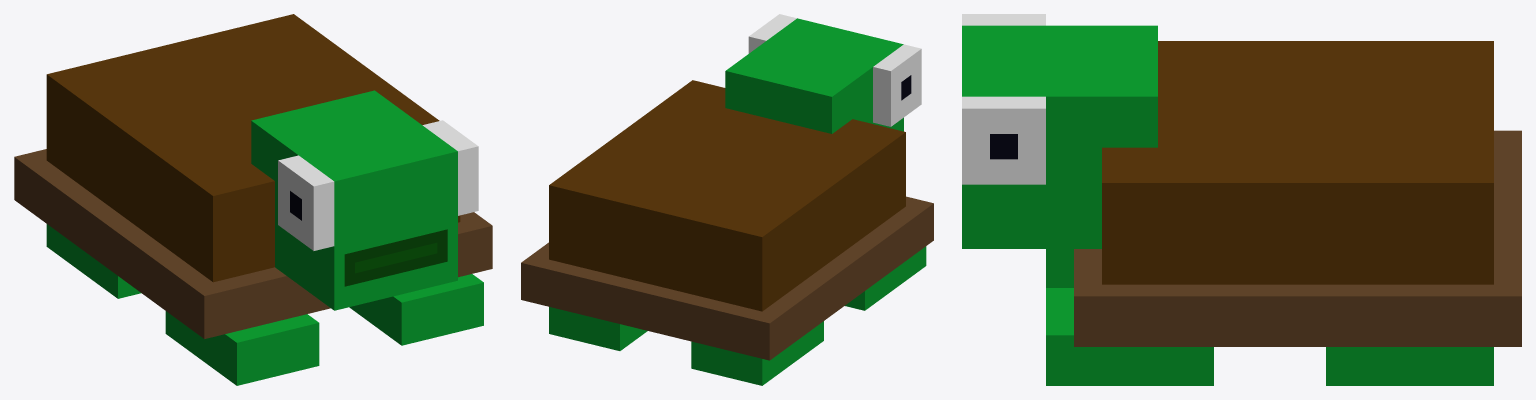
Rendered from kaplumbaga.obj.
The picture shows the model from 3 angles, left to right: view 1: azimuth 30°, elevation 25°; view 2: azimuth 150°, elevation 25°; view 3: azimuth 270°, elevation 25°; orthographic projection. The views are drawn at different scales.
Bounding box in the file's own units: 28 × 20 × 40.
Materials: 1 (1 with a texture image).
